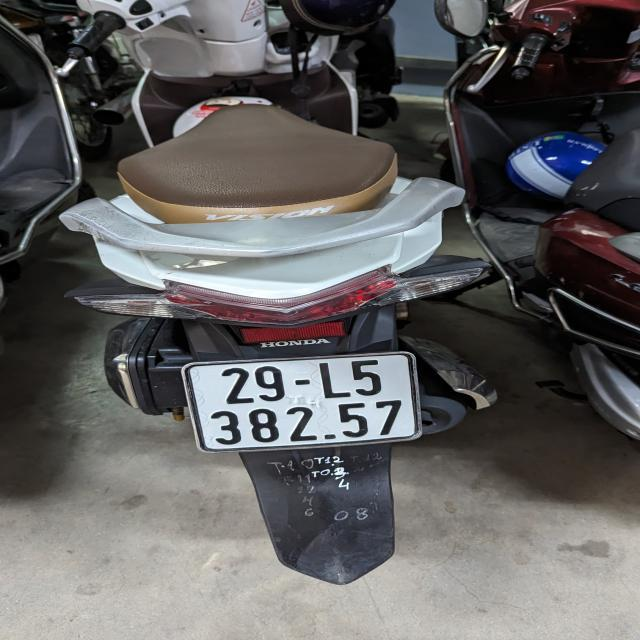license: (180, 349, 423, 453)
